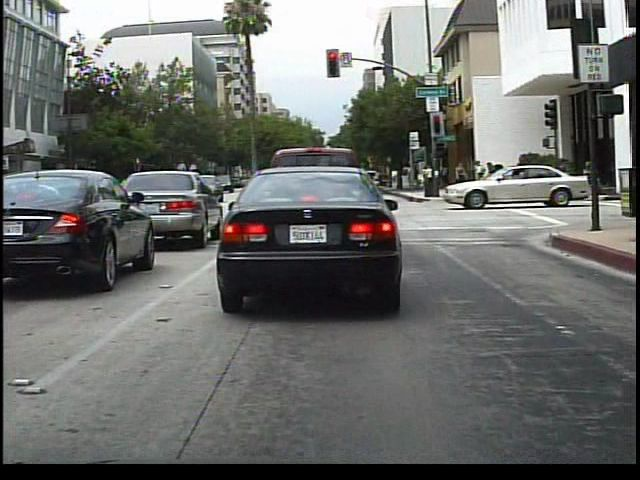person: (485, 155, 512, 203), (451, 159, 470, 197), (469, 158, 486, 195)
